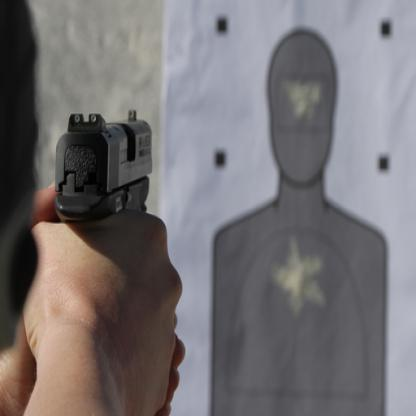gun: (52, 109, 154, 224)
